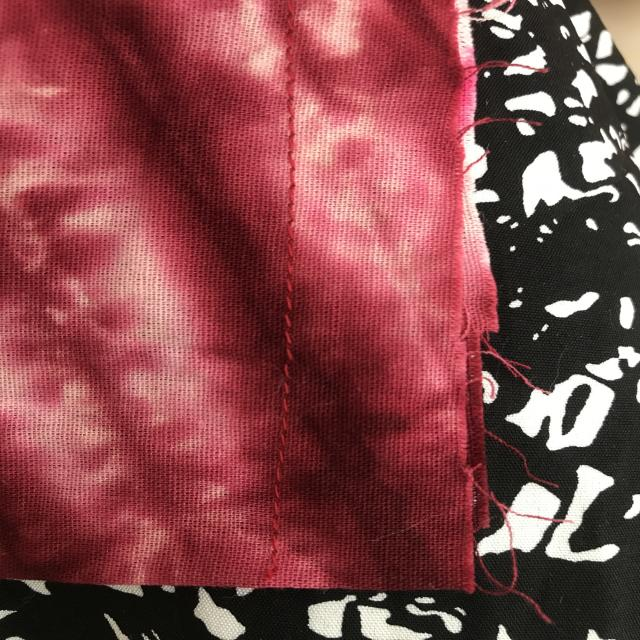good: (264, 243, 276, 376)
